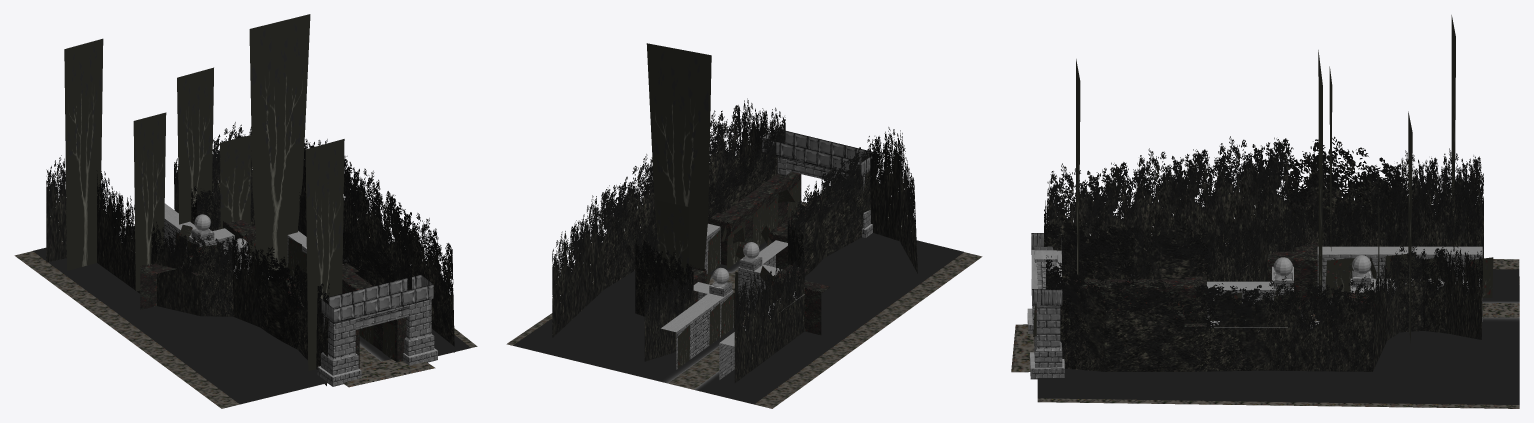
File: cgc_connector1.fbx
The picture shows the model from 3 angles, left to right: view 1: azimuth 30°, elevation 25°; view 2: azimuth 150°, elevation 25°; view 3: azimuth 270°, elevation 25°; orthographic projection. The views are drawn at different scales.
Visible parts, largest first — view 1: hedge1, groundshadow2, tree_29, pPlane46, pPlane53, pPlane41, pPlane50, groundshadow1, pCube131, pPlane3, rooftower_3, polySurface25 (×2) (+7 smaller); view 2: hedge1, groundshadow2, tree_29, groundshadow1, polySurface25 (×3), pCube131, pCube136, pPlane3, pCube137, polySurface26, rooftower_3, pPlane175 (+3 smaller); view 3: hedge1, groundshadow2, pCube137, groundshadow1, polySurface25 (×2), rooftower_4, polySurface26 (×2), pCube131, tree_29, SeemPatch, pPlane46, pPlane174 (+6 smaller).
Boxes of the visible parts, x1,y1,x2,y2 form: hedge1: (46, 122, 454, 385); groundshadow2: (33, 226, 470, 404); tree_29: (249, 14, 310, 272); pPlane46: (64, 38, 103, 270); pPlane53: (305, 139, 344, 370); pPlane41: (177, 67, 213, 224); pPlane50: (133, 112, 166, 291); groundshadow1: (14, 251, 477, 408); pCube131: (321, 274, 433, 323); pPlane3: (220, 135, 251, 228); rooftower_3: (321, 305, 408, 375); polySurface25 (×2): (140, 253, 406, 362); hedge1: (552, 98, 917, 382); groundshadow2: (513, 233, 963, 404); tree_29: (646, 43, 711, 269); groundshadow1: (506, 252, 982, 408); polySurface25 (×3): (708, 174, 832, 335); pCube131: (762, 129, 873, 176); pCube136: (661, 223, 733, 369); pPlane3: (656, 200, 688, 286); pCube137: (719, 240, 804, 379); polySurface26: (708, 172, 799, 223); rooftower_3: (786, 158, 871, 228); pPlane175: (752, 202, 766, 246); hedge1: (1044, 136, 1483, 371); groundshadow2: (1037, 269, 1519, 404); pCube137: (1207, 246, 1482, 320); groundshadow1: (1037, 259, 1519, 408); polySurface25 (×2): (1077, 259, 1317, 309); rooftower_4: (1034, 302, 1062, 367); polySurface26 (×2): (1062, 233, 1317, 288); pCube131: (1031, 233, 1062, 306); tree_29: (1318, 50, 1322, 320); SeemPatch: (1011, 324, 1034, 372); pPlane46: (1451, 15, 1455, 246); pPlane174: (1325, 258, 1354, 297).
Size of what is drawn, in the model's own units: 92.37 by 85.8 by 132.
